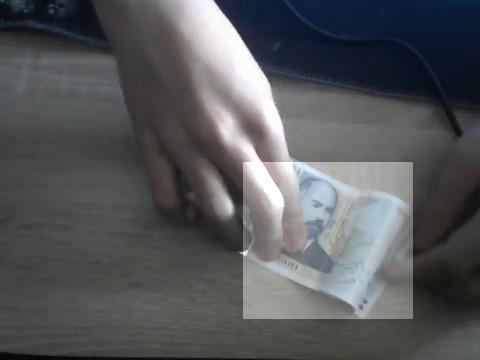20leva: (243, 162, 413, 319)
